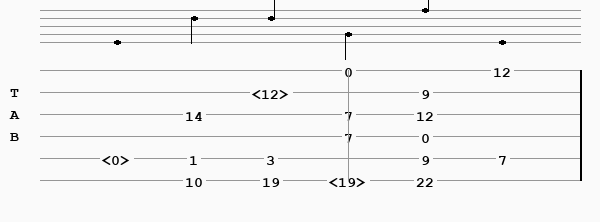0: (344, 64, 357, 77), (421, 130, 434, 143)
1: (189, 152, 202, 165)
10: (185, 174, 207, 187)
12: (416, 108, 438, 121), (493, 64, 515, 77)
14: (185, 108, 207, 121)
19: (262, 174, 284, 187)
22: (416, 174, 438, 187)
3: (266, 152, 279, 165)
7: (344, 130, 357, 143), (344, 108, 357, 121), (498, 152, 511, 165)
9: (421, 152, 434, 165), (421, 86, 434, 99)
harmonic: (252, 86, 294, 99), (329, 174, 371, 187), (102, 152, 135, 165)
